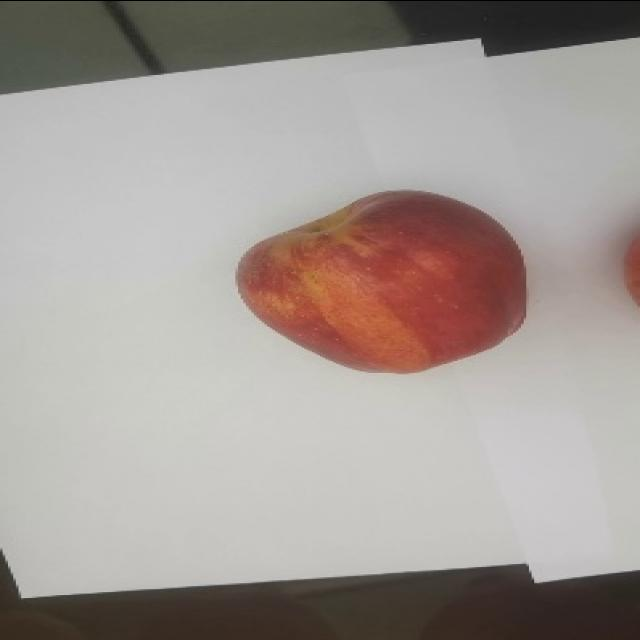Apple: (235, 188, 527, 374)
